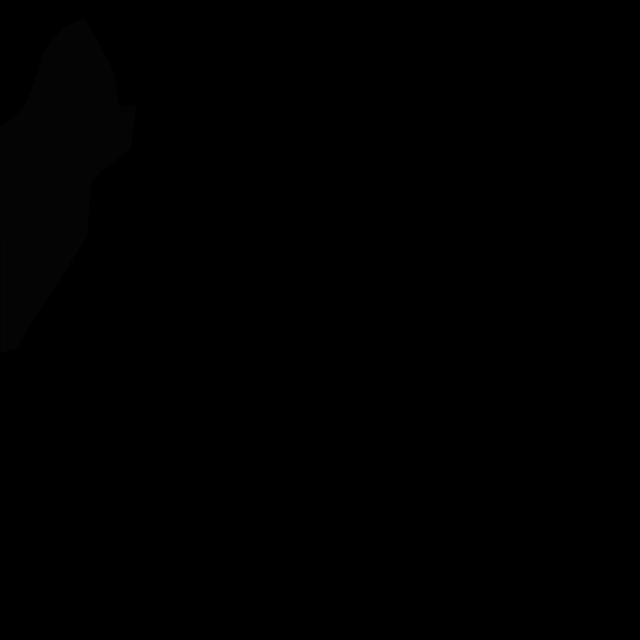soft_plastic: (0, 92, 91, 353), (30, 18, 136, 183)
